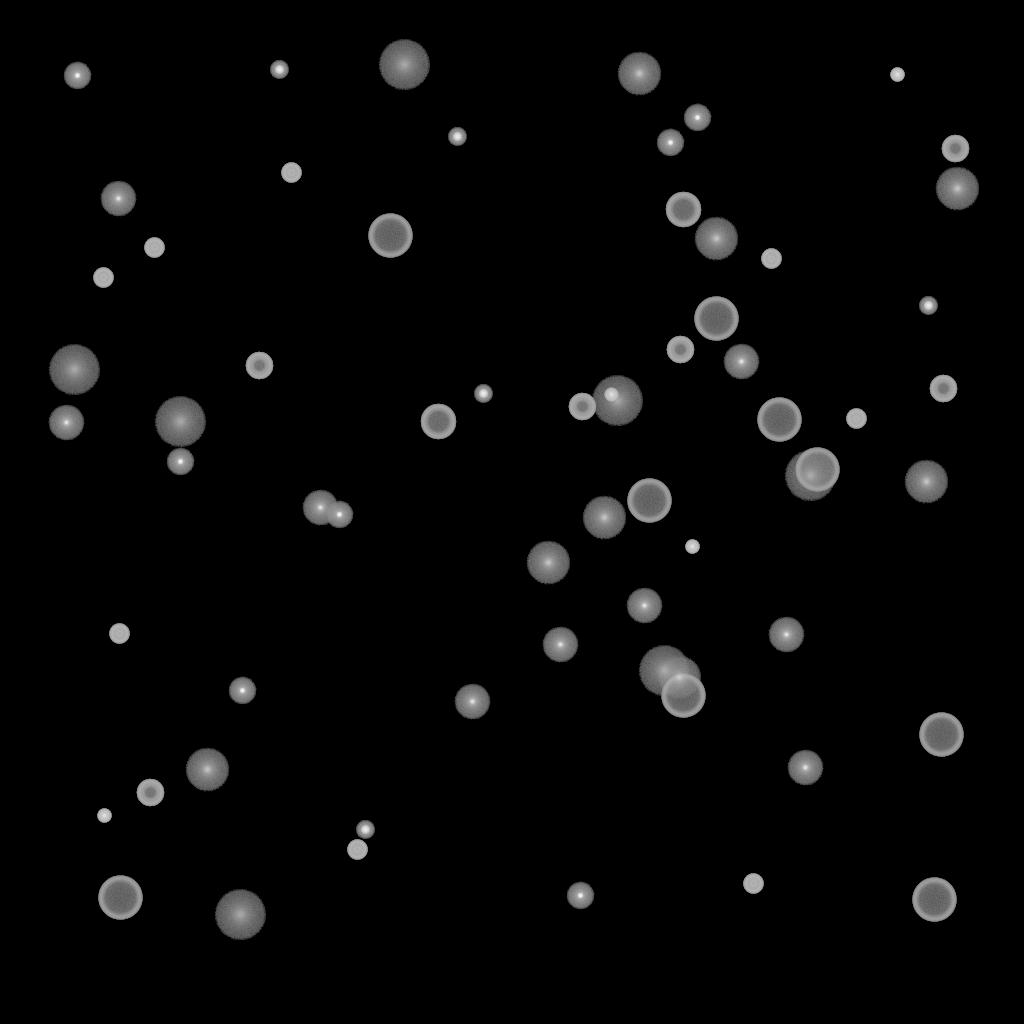depth:-10: (566, 882, 594, 910), (63, 62, 91, 90), (656, 129, 684, 157), (325, 501, 353, 529), (683, 104, 711, 132), (228, 677, 256, 705), (166, 448, 194, 476)
depth:-20: (474, 385, 492, 403), (919, 297, 937, 315), (270, 61, 288, 79), (448, 128, 466, 146), (356, 821, 374, 839)
depth:-30: (97, 809, 111, 823), (685, 540, 699, 554), (890, 68, 904, 82), (604, 388, 618, 402)
depth:-40: (281, 163, 301, 183), (743, 874, 763, 894), (347, 840, 367, 860), (93, 268, 113, 288), (761, 249, 781, 269), (144, 238, 164, 258), (846, 409, 866, 429), (109, 624, 129, 644)
depth:-50: (245, 352, 273, 380), (136, 779, 164, 807), (929, 375, 957, 403), (568, 393, 596, 421), (666, 336, 694, 364), (941, 135, 969, 163)
depth:-60: (420, 404, 456, 440), (665, 192, 701, 228)
depth:-70: (757, 398, 801, 442), (694, 297, 738, 341), (661, 674, 705, 718), (919, 713, 963, 757), (368, 214, 412, 258), (98, 876, 142, 920), (795, 448, 839, 492), (627, 479, 671, 523), (912, 878, 956, 922)
depth:0: (454, 684, 490, 720), (626, 588, 662, 624), (302, 490, 338, 526), (723, 344, 759, 380), (787, 750, 823, 786), (48, 405, 84, 441), (100, 181, 136, 217), (768, 617, 804, 653), (542, 627, 578, 663)
depth:10: (617, 52, 661, 96), (185, 748, 229, 792), (694, 217, 738, 261), (526, 541, 570, 585), (657, 656, 701, 700), (582, 496, 626, 540), (935, 167, 979, 211), (904, 460, 948, 504)
depth:20: (214, 890, 266, 940), (48, 345, 100, 395), (591, 376, 643, 426), (378, 40, 430, 90), (638, 646, 690, 696), (784, 451, 836, 501), (154, 397, 206, 447)
